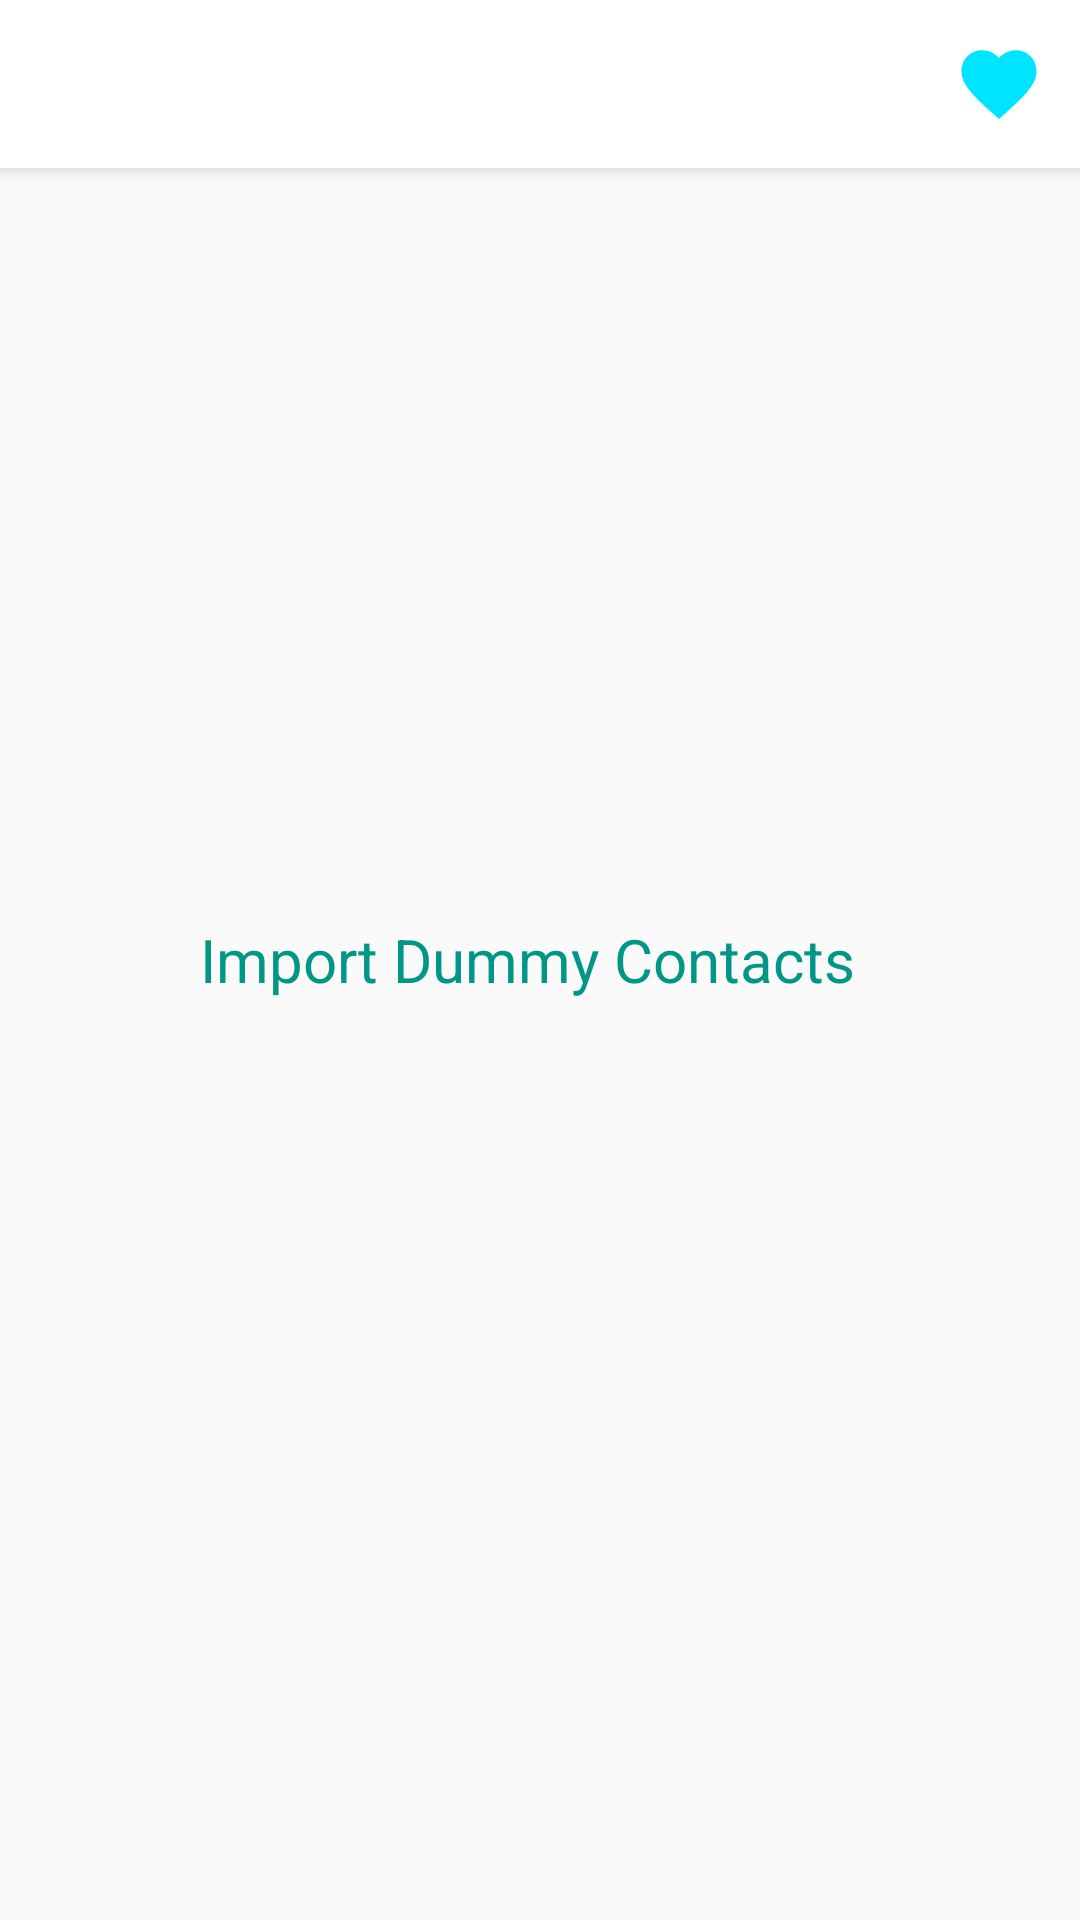

Named icons in this screenshot (1080×1920) and their bounding boxes, (x1, y1, x2, y2):
favorite cyan: (961, 50, 1037, 119)
